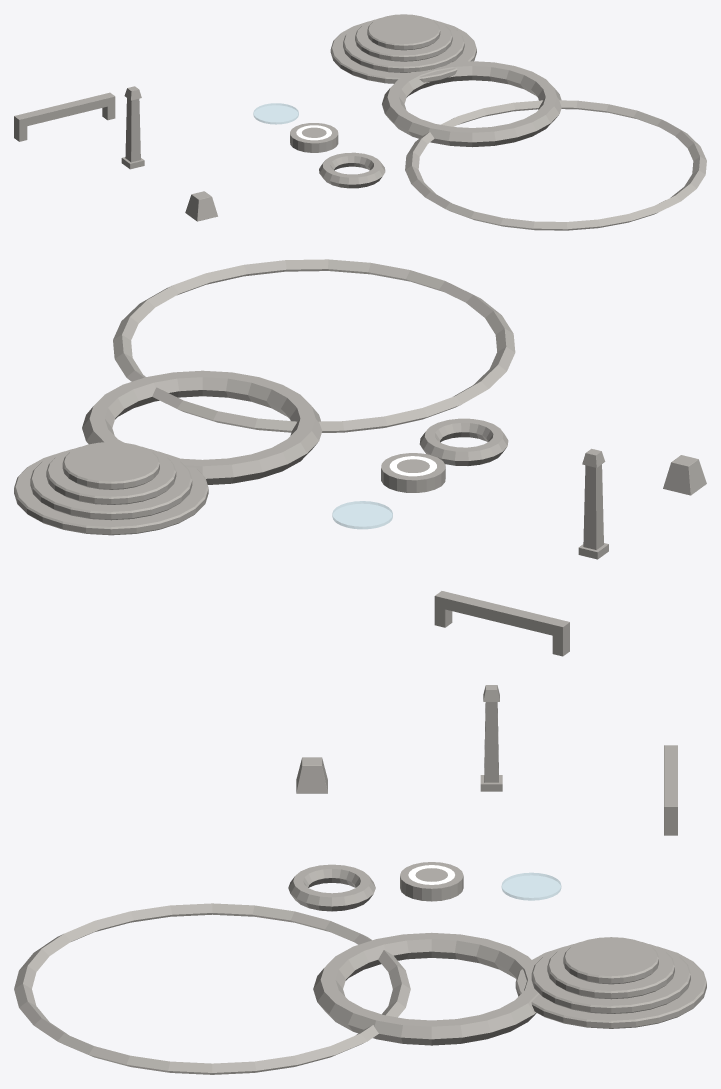
The model's file is 부화터_파츠.glb.
The picture shows the model from 3 angles, top to bottom: view 1: azimuth 30°, elevation 25°; view 2: azimuth 150°, elevation 25°; view 3: azimuth 270°, elevation 25°; orthographic projection. The views are drawn at different scales.
Visible parts, largest first — view 1: 계단받침, 중간받침, 기초링, 상인방빔, 코어하우징, 발광코어, 기둥, 유리커버, 외곽지지대; view 2: 계단받침, 기초링, 중간받침, 상인방빔, 코어하우징, 발광코어, 기둥, 유리커버, 외곽지지대; view 3: 계단받침, 중간받침, 기초링, 코어하우징, 발광코어, 기둥, 유리커버, 상인방빔, 외곽지지대.
Boxes of the visible parts, box(x1,y1,x2,y2) form: 계단받침: box(330, 14, 476, 83); 중간받침: box(382, 61, 561, 147); 기초링: box(405, 100, 706, 230); 상인방빔: box(14, 92, 115, 141); 코어하우징: box(319, 152, 385, 188); 발광코어: box(290, 123, 338, 152); 기둥: box(121, 86, 144, 169); 유리커버: box(253, 103, 298, 124); 외곽지지대: box(185, 191, 217, 221); 계단받침: box(14, 442, 208, 535); 기초링: box(113, 259, 515, 432); 중간받침: box(82, 370, 322, 484); 상인방빔: box(434, 591, 569, 656); 코어하우징: box(419, 418, 508, 465); 발광코어: box(381, 453, 445, 492); 기둥: box(578, 448, 608, 559); 유리커버: box(332, 501, 392, 529); 외곽지지대: box(663, 455, 706, 495); 계단받침: box(515, 937, 706, 1028); 중간받침: box(313, 932, 539, 1045); 기초링: box(14, 903, 410, 1074); 코어하우징: box(288, 864, 375, 911); 발광코어: box(400, 862, 463, 901); 기둥: box(480, 685, 502, 791); 유리커버: box(501, 872, 561, 900); 상인방빔: box(664, 745, 677, 835); 외곽지지대: box(296, 757, 327, 793).
Bounding box in the file's own units: 3.76 × 0.65 × 3.47.
